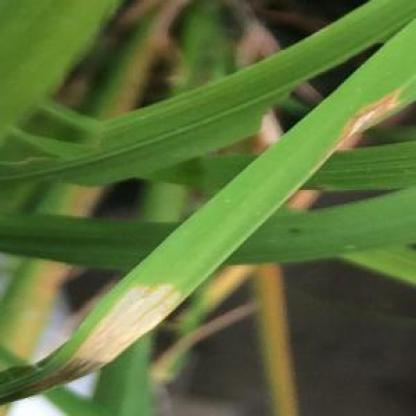Rice blast: (17, 277, 193, 396), (331, 83, 416, 156)
